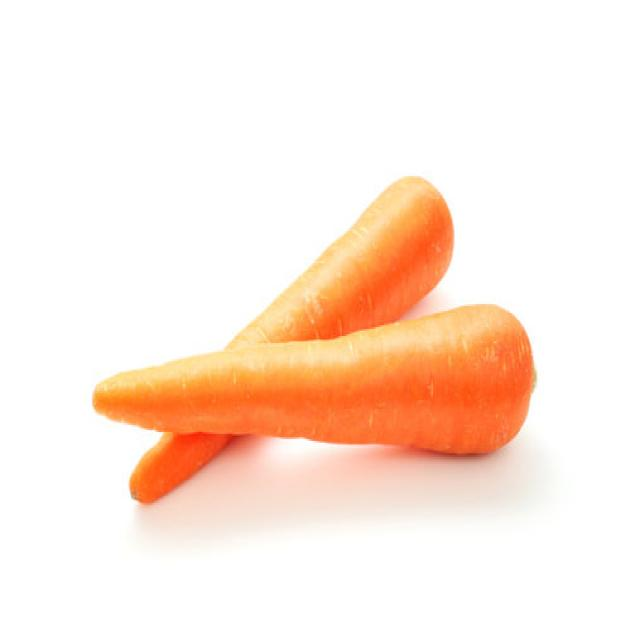Carrot: (102, 173, 456, 503), (91, 300, 536, 457), (224, 172, 453, 348), (127, 430, 235, 505)
